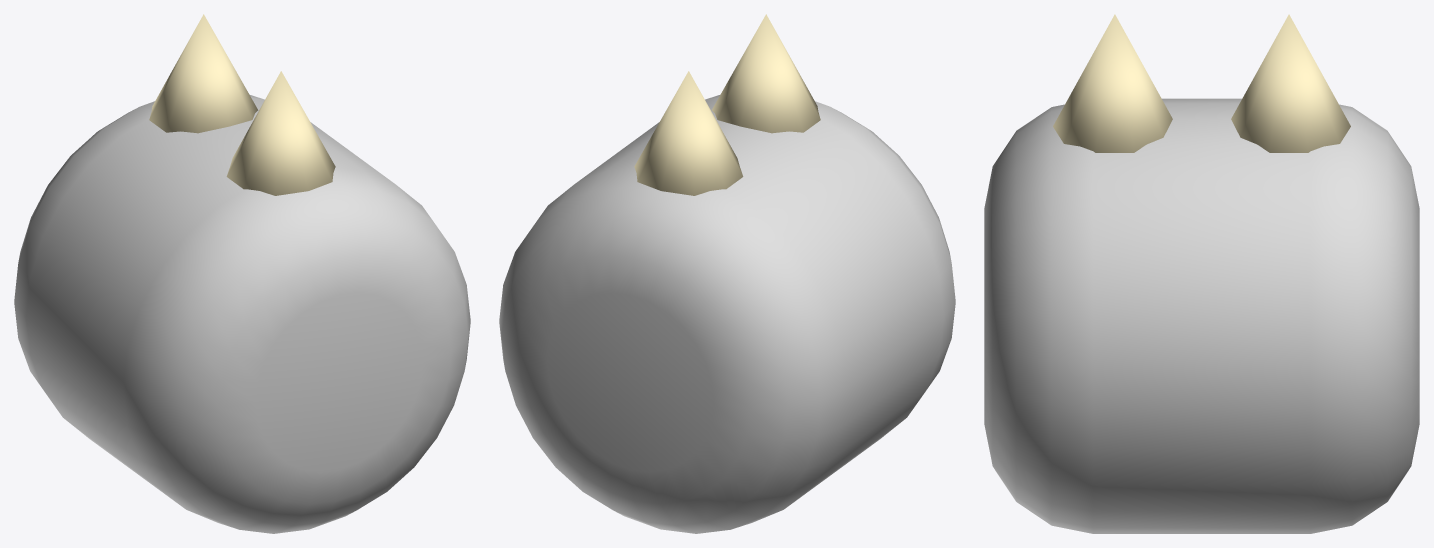
Rendered from dragon_body.glb.
3 views of the same model, side by side, from view 1: azimuth 30°, elevation 25°; view 2: azimuth 150°, elevation 25°; view 3: azimuth 270°, elevation 25° (orthographic). The views are drawn at different scales.
Parts seen in each view (by area): view 1: Tint_Body, Spike, Spike.001; view 2: Tint_Body, Spike.001, Spike; view 3: Tint_Body, Spike, Spike.001.
Part boxes in pixels (left/top/right/bottom): Tint_Body: left=14, top=95, right=470, bottom=533; Spike: left=226, top=71, right=335, bottom=195; Spike.001: left=149, top=14, right=258, bottom=133; Tint_Body: left=499, top=95, right=955, bottom=533; Spike.001: left=634, top=71, right=743, bottom=195; Spike: left=711, top=14, right=820, bottom=133; Tint_Body: left=984, top=98, right=1419, bottom=533; Spike: left=1053, top=14, right=1172, bottom=152; Spike.001: left=1231, top=14, right=1350, bottom=152.
Size of the model in its own units: 0.6 by 0.76 by 0.6.
